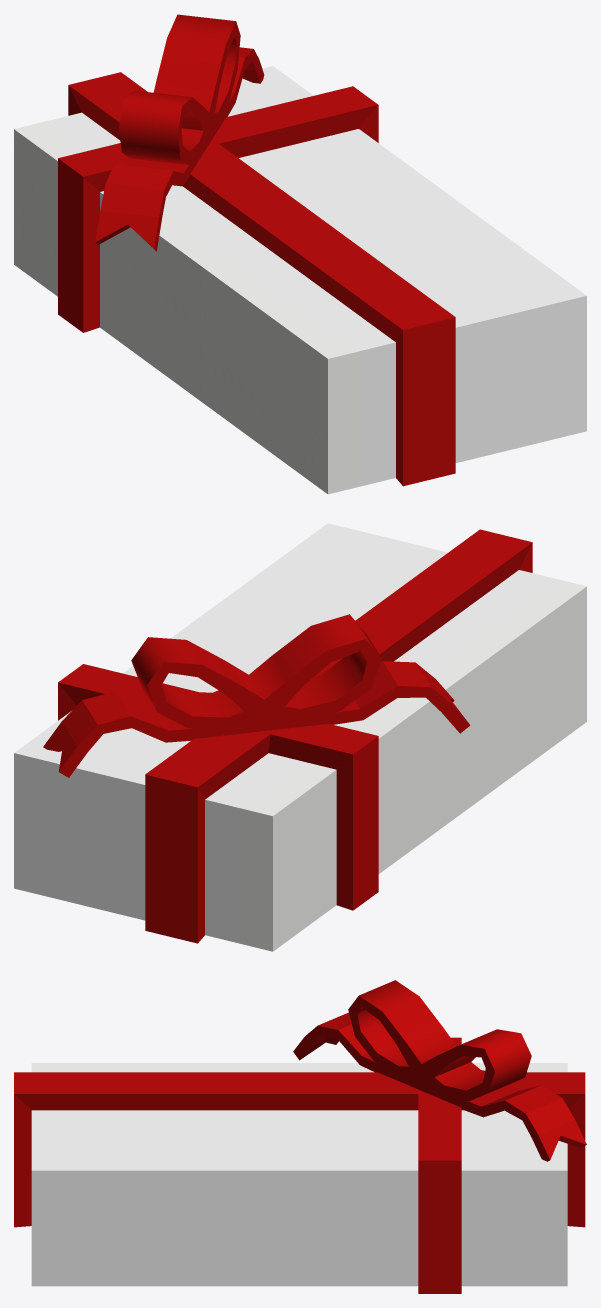
File: Presents16.fbx
The picture shows the model from 3 angles, top to bottom: view 1: azimuth 30°, elevation 25°; view 2: azimuth 150°, elevation 25°; view 3: azimuth 270°, elevation 25°; orthographic projection. The views are drawn at different scales.
Parts seen in each view (by area): view 1: Present16; view 2: Present16; view 3: Present16.
Boxes of the visible parts, x1,y1,x2,y2 form: Present16: (14,14,586,494); Present16: (14,523,586,951); Present16: (14,980,586,1293).
Bounding box in the file's own units: 51.77 × 34.94 × 89.83.
